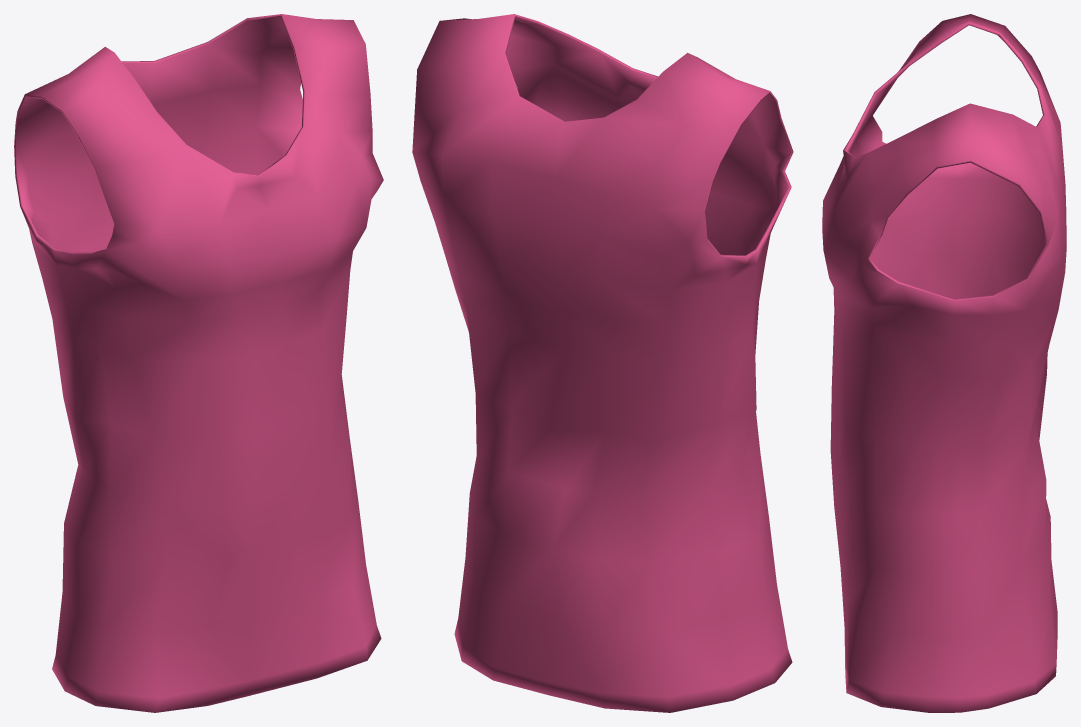
File: shirt_lp__corona.obj
3 views of the same model, side by side, from view 1: azimuth 30°, elevation 25°; view 2: azimuth 150°, elevation 25°; view 3: azimuth 270°, elevation 25° (orthographic). The views are drawn at different scales.
Visible parts, largest first — view 1: shirt_lp; view 2: shirt_lp; view 3: shirt_lp.
Boxes of the visible parts, box(x1,y1,x2,y2) form: shirt_lp: box(14, 14, 383, 712); shirt_lp: box(412, 14, 793, 712); shirt_lp: box(822, 14, 1066, 712).
Bounding box in the file's own units: 498 × 933 × 352.
